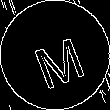M_N: (25, 23, 85, 87)
